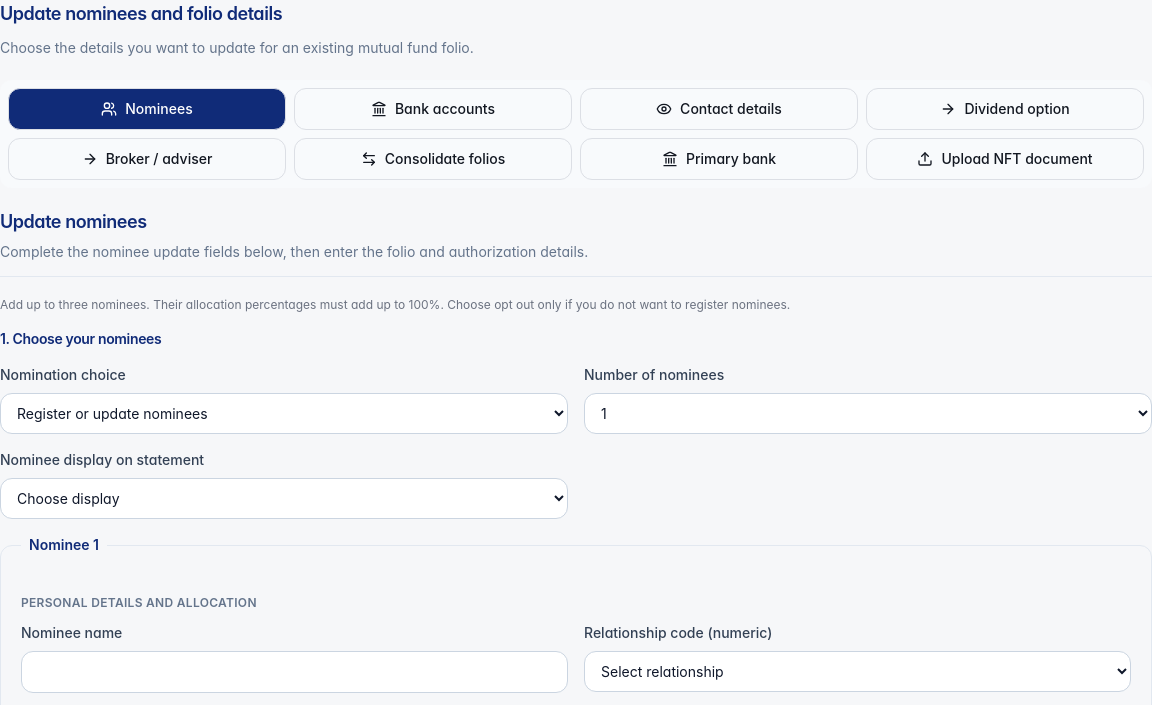
Test: switches embedded Primary bank to its own update fields
The width and height of the screenshot is (1152, 705).
Check: the dropdown labelled "Nomination choice" is shown, box [0,393,568,434]
Click the button "Primary bank": click(719, 159) [580,138,858,180]
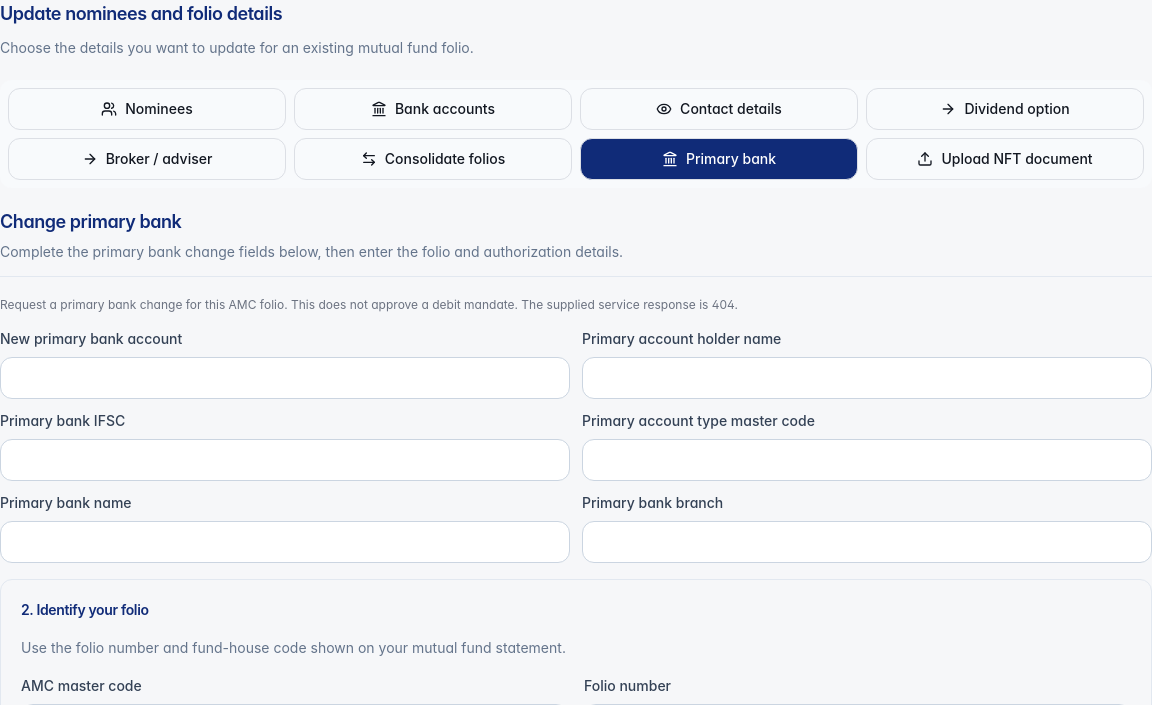
Check: the heading "Change primary bank" is shown, box [0,211,181,232]
Check: the label labelled "Nomination choice" is gone
Click the button "Nominees": click(147, 109) [8,88,286,130]
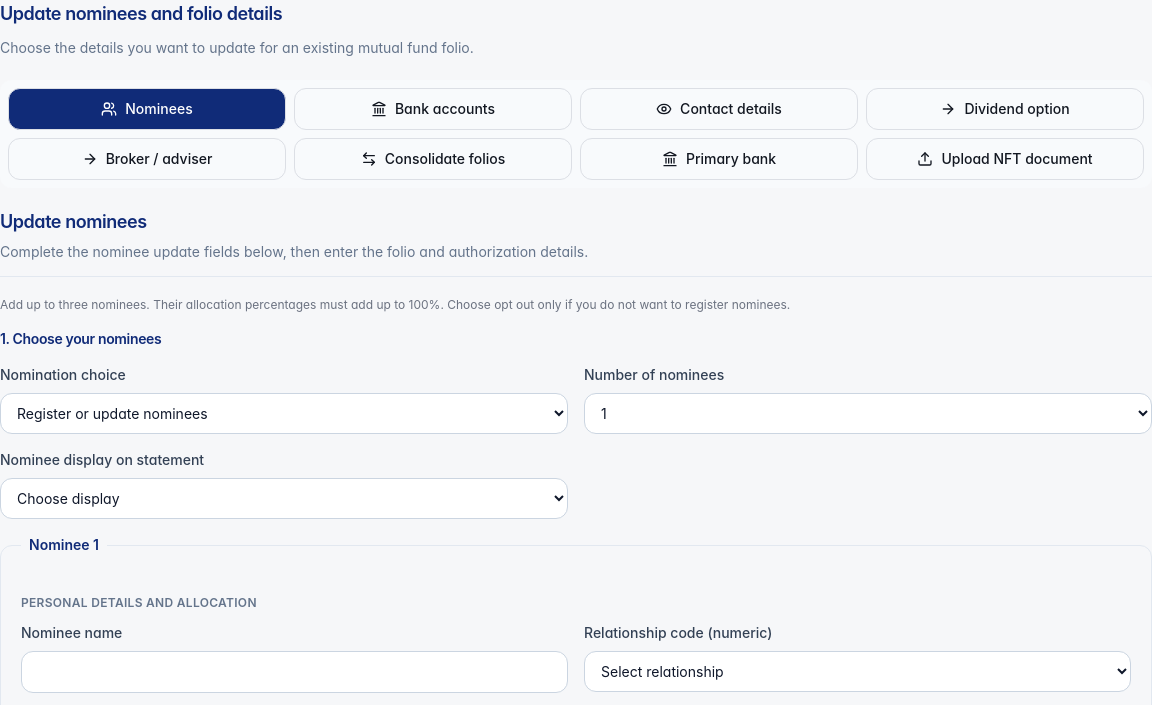
Check: the dropdown labelled "Nomination choice" is shown, box [0,393,568,434]
